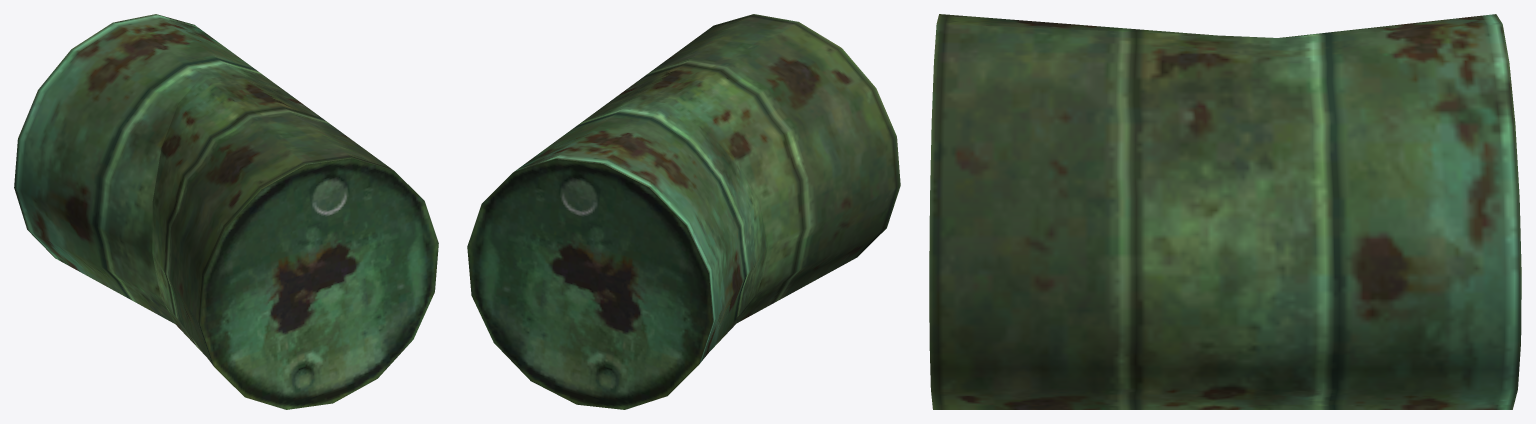
The model's file is od_single_on_side_dented_green.fbx.
3 renders of one model, left to right at view 1: azimuth 30°, elevation 25°; view 2: azimuth 150°, elevation 25°; view 3: azimuth 270°, elevation 25°, orthographic. The views are drawn at different scales.
Parts seen in each view (by area): view 1: mesh_0; view 2: mesh_0; view 3: mesh_0.
Part boxes in pixels (x1,y1,x2,y2): mesh_0: [14, 14, 438, 409]; mesh_0: [467, 14, 900, 409]; mesh_0: [929, 14, 1521, 409].
Bounding box in the file's own units: 59.27 × 59.35 × 89.07.
1 material, 1 textured.
